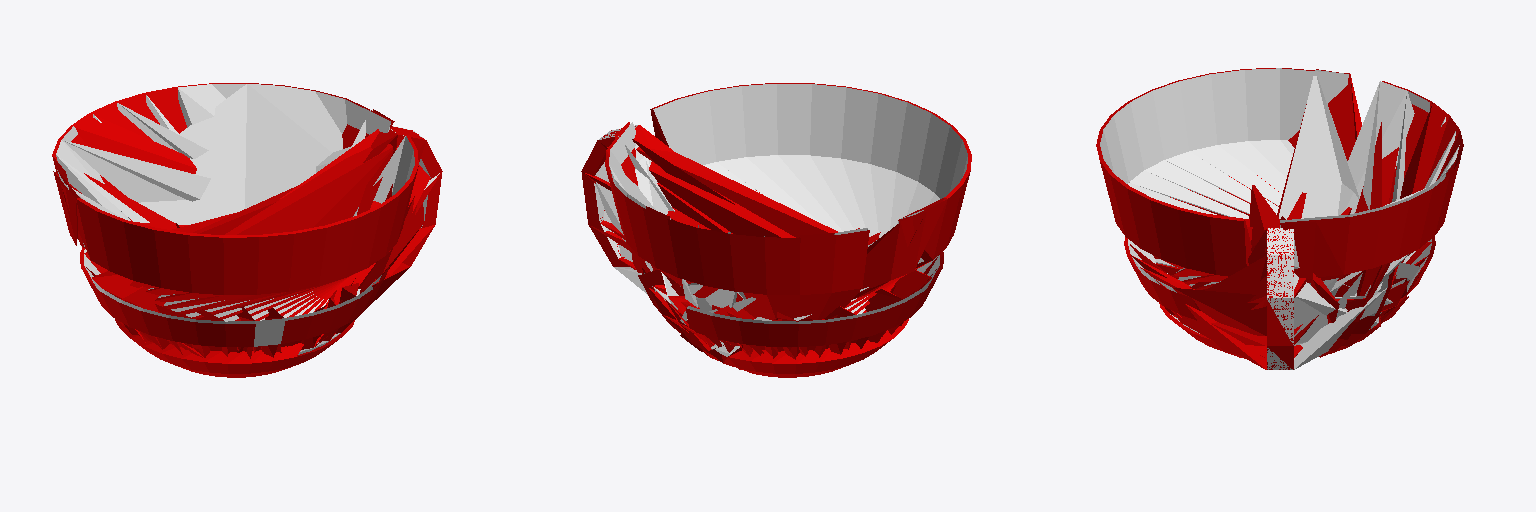
File: Teacup.obj
The picture shows the model from 3 angles: view 1: azimuth 30°, elevation 25°; view 2: azimuth 150°, elevation 25°; view 3: azimuth 270°, elevation 25°; orthographic projection.
Parts seen in each view (by area): view 1: Cylinder002, Cylinder001, Box001; view 2: Cylinder002, Cylinder001, Box001; view 3: Cylinder002, Cylinder001, Box001.
Boxes of the visible parts, x1=… form: Cylinder002: x1=52, y1=83, x2=439, y2=377; Cylinder001: x1=84, y1=129, x2=441, y2=358; Box001: x1=390, y1=126, x2=442, y2=266; Cylinder002: x1=594, y1=83, x2=971, y2=377; Cylinder001: x1=583, y1=125, x2=939, y2=359; Box001: x1=581, y1=126, x2=635, y2=266; Cylinder002: x1=1096, y1=68, x2=1463, y2=369; Cylinder001: x1=1130, y1=185, x2=1431, y2=369; Box001: x1=1267, y1=228, x2=1293, y2=369.
Bounding box in the file's own units: 720029 × 388612 × 637687.